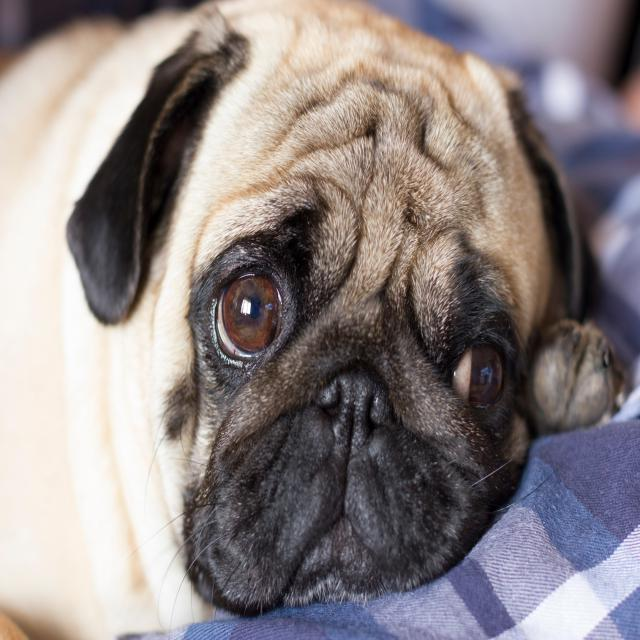eye: (206, 262, 290, 365), (444, 328, 510, 419)
